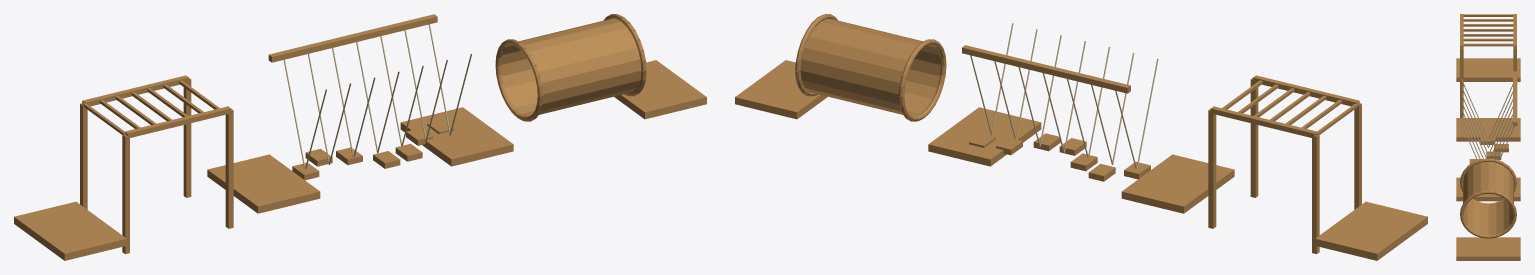
3 renders of one model, left to right at view 1: azimuth 30°, elevation 25°; view 2: azimuth 150°, elevation 25°; view 3: azimuth 270°, elevation 25°, orthographic. The views are drawn at different scales.
Visible parts, largest first — view 1: SW-A406; view 2: SW-A406; view 3: SW-A406.
Boxes of the visible parts, x1,y1,x2,y2 form: SW-A406: (14, 14, 706, 260); SW-A406: (735, 14, 1427, 260); SW-A406: (1456, 14, 1520, 260).
Bounding box in the file's own units: 9.5 × 1.7 × 1.3.
